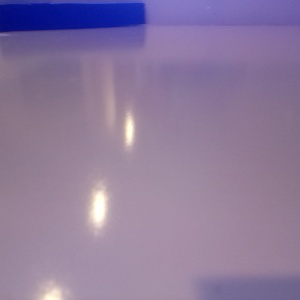zone: (1, 3, 146, 31)
